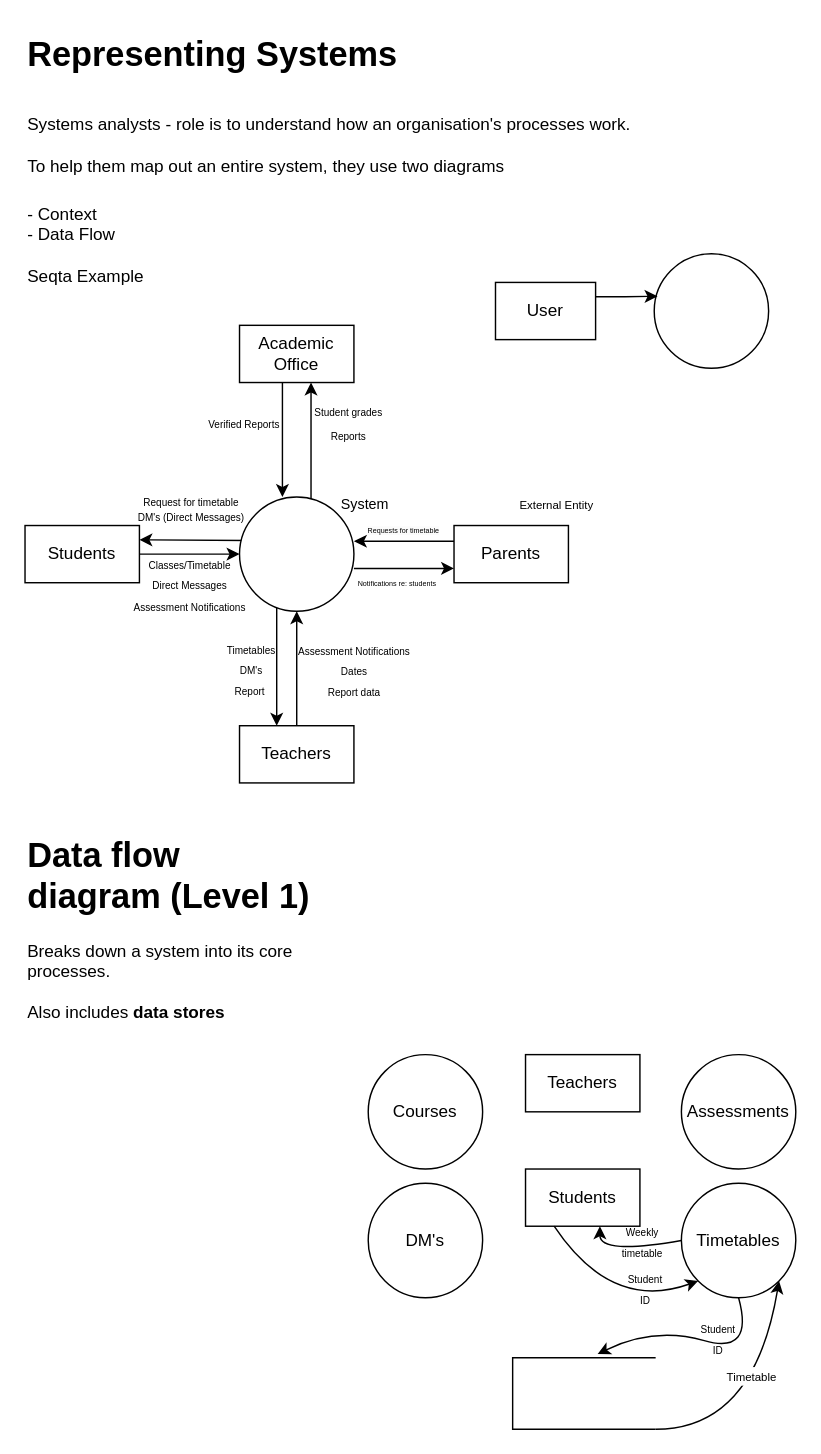
The diagram is 821 pixels wide and 1454 high, and some of its shapes have lost their labels. The centre of each missing label's shape, as x and y in pixels:
Data Store: (x=583, y=1392)
Password Checker: (x=711, y=310)
SEQTA: (x=296, y=553)
